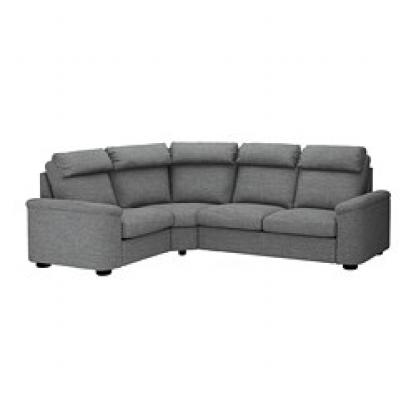Sofa: (17, 128, 398, 290)
